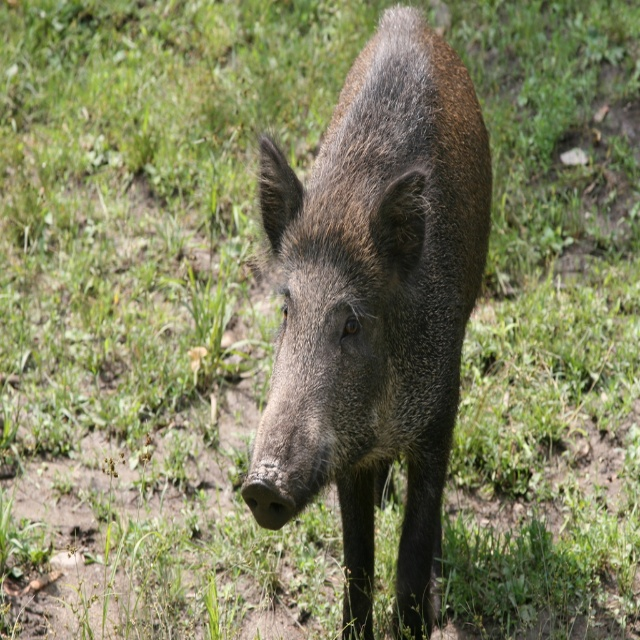Pig: (238, 0, 493, 639)
